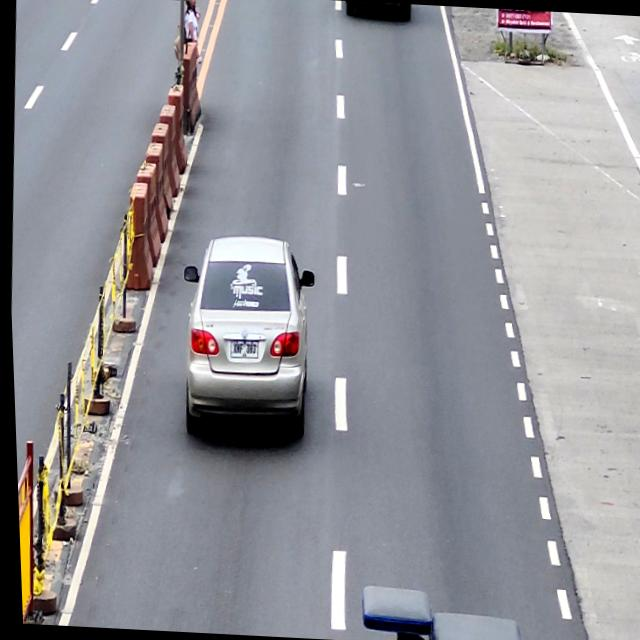Car: (171, 234, 320, 446)
License-Plate: (227, 340, 257, 360)
